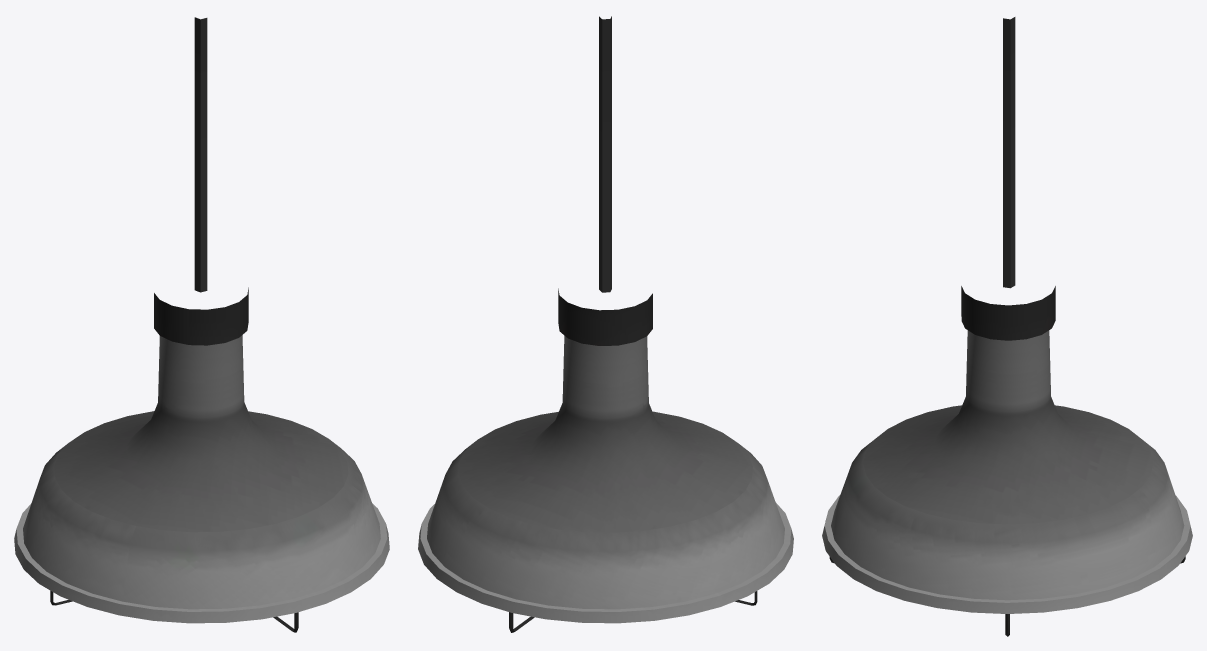
3 views of the same model, side by side, from view 1: azimuth 30°, elevation 25°; view 2: azimuth 150°, elevation 25°; view 3: azimuth 270°, elevation 25° (orthographic).
Parts seen in each view (by area): view 1: body0_model0_lod0_mesh0; view 2: body0_model0_lod0_mesh0; view 3: body0_model0_lod0_mesh0.
Boxes of the visible parts, <box> form: body0_model0_lod0_mesh0: <box>14,17,389,632</box>; body0_model0_lod0_mesh0: <box>418,16,793,632</box>; body0_model0_lod0_mesh0: <box>822,17,1192,636</box>.
Bounding box in the file's own units: 29.77 × 48.28 × 29.77.
1 material, 1 textured.
